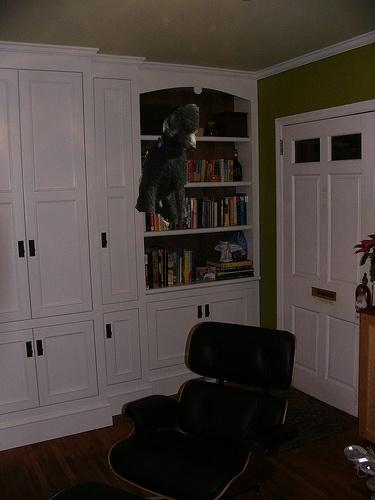tampered: (136, 104, 199, 225)
